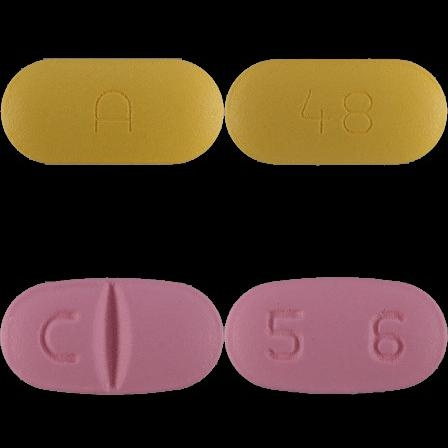68788-9716: (0, 0, 224, 224)
